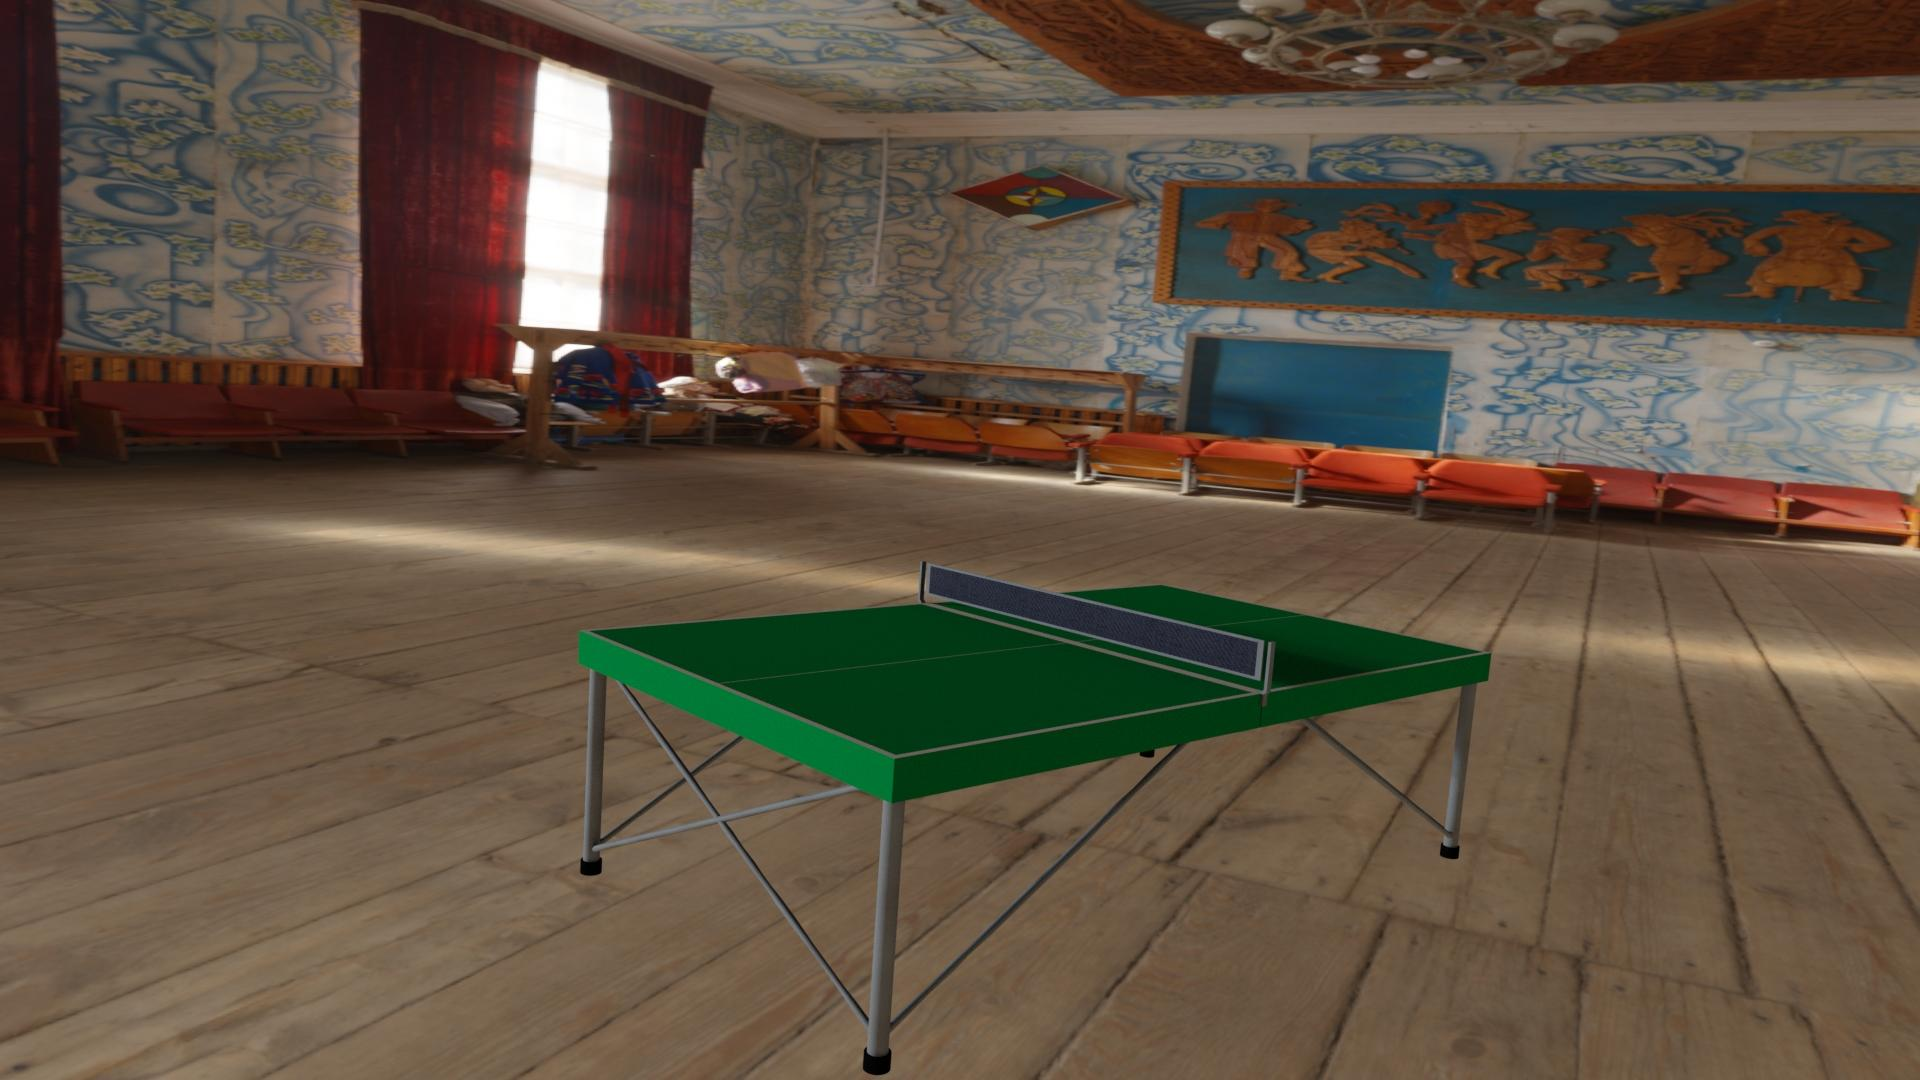table: (588, 585, 1484, 755)
